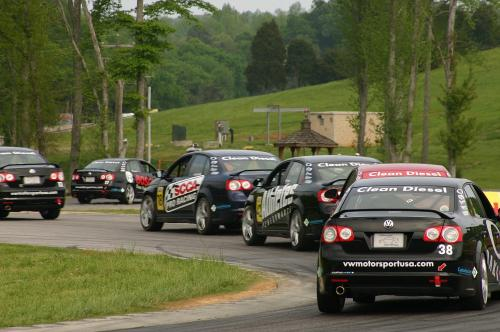car: (323, 179, 485, 297), (241, 160, 335, 244), (138, 150, 235, 224), (1, 144, 65, 218), (64, 153, 136, 197)
